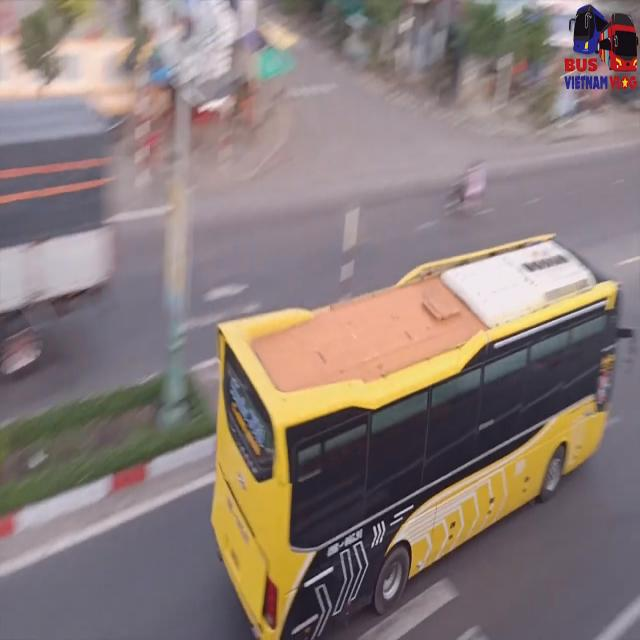bus: (215, 236, 624, 640)
